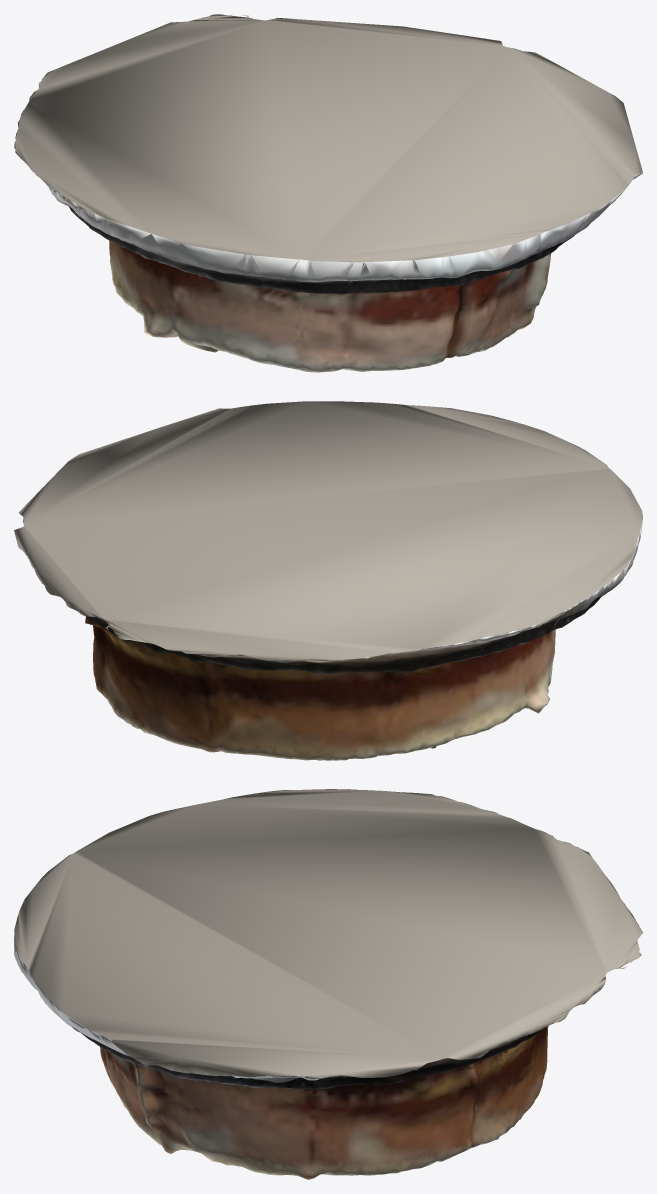
File: cake_24008.obj
3 renders of one model, top to bottom at view 1: azimuth 30°, elevation 25°; view 2: azimuth 150°, elevation 25°; view 3: azimuth 270°, elevation 25°, orthographic. The views are drawn at different scales.
Bounding box in the file's own units: 0.1761 × 0.0565 × 0.1767.
Materials: 1 (1 with a texture image).
